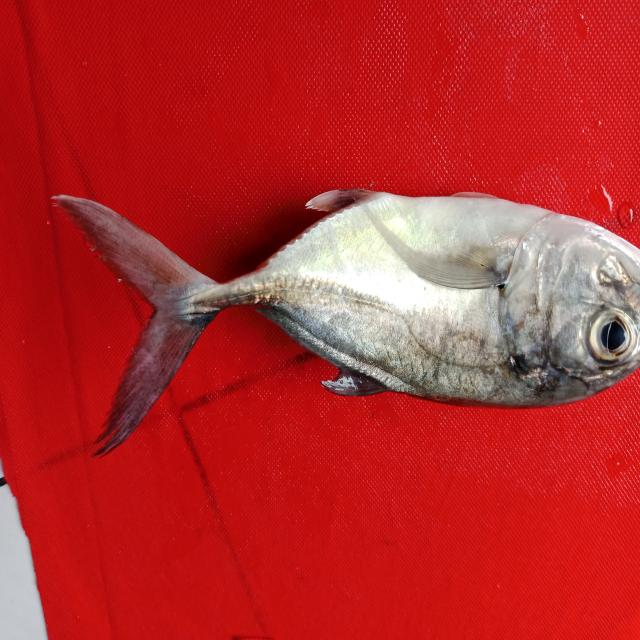ikan: (45, 139, 637, 466)
